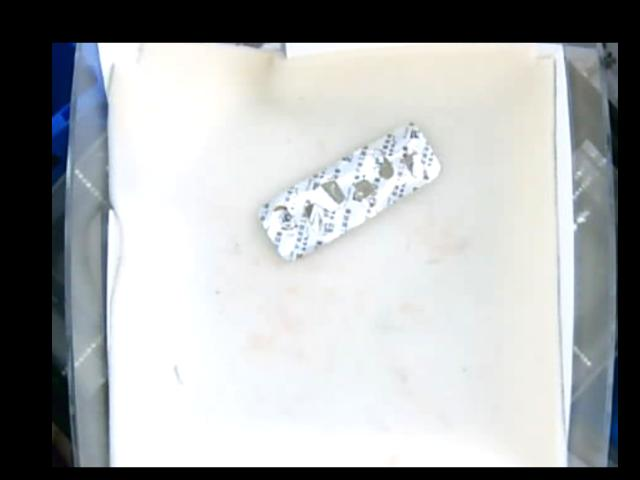Medicine: (258, 124, 439, 260)
